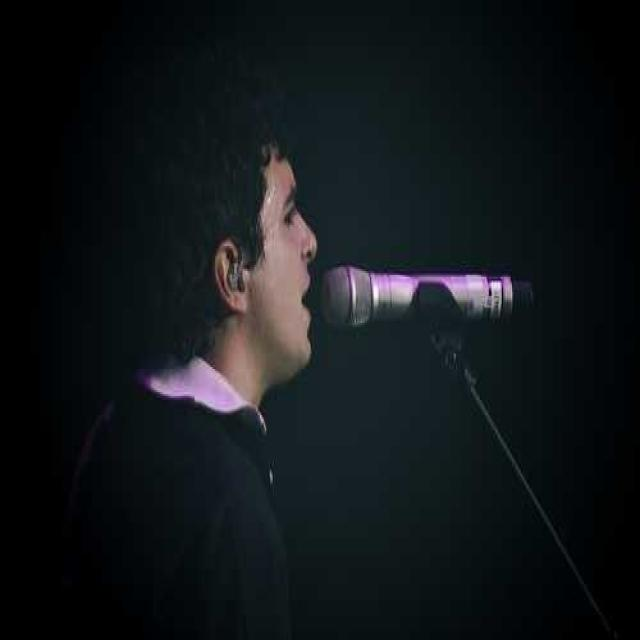microphone: (315, 261, 538, 344)
